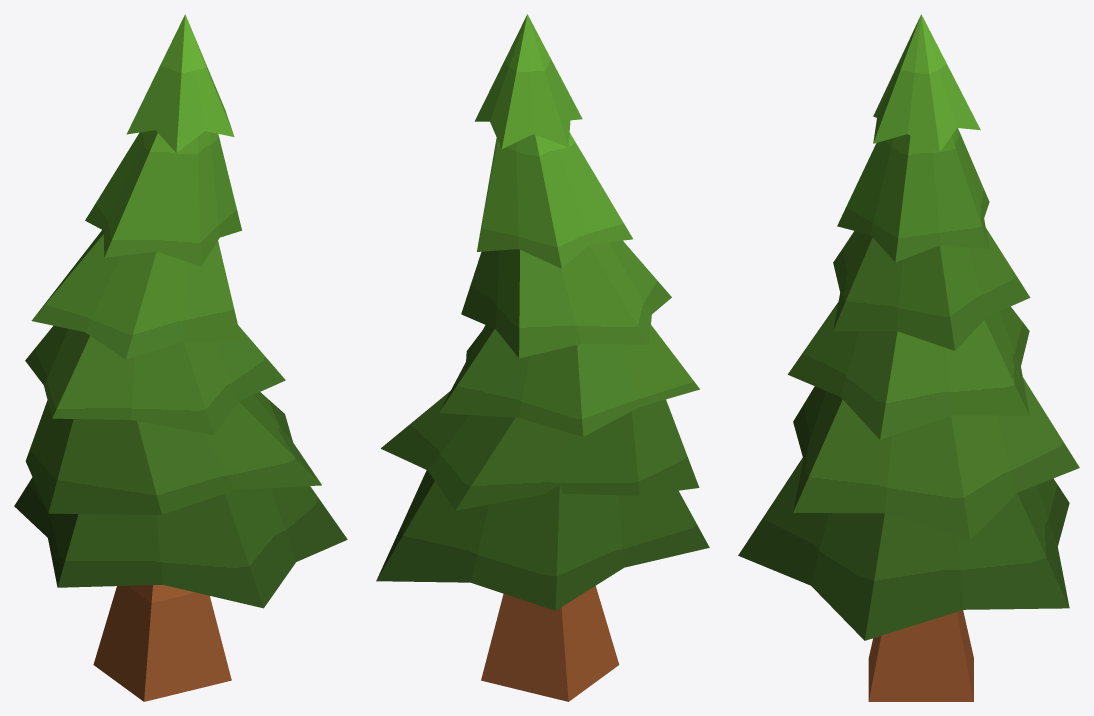
The model's file is tree-2.fbx.
3 views of the same model, side by side, from view 1: azimuth 30°, elevation 25°; view 2: azimuth 150°, elevation 25°; view 3: azimuth 270°, elevation 25° (orthographic). The views are drawn at different scales.
Parts seen in each view (by area): view 1: Cube.004; view 2: Cube.004; view 3: Cube.004.
Part boxes in pixels (x1,y1,x2,y2): Cube.004: (14, 14, 347, 701); Cube.004: (376, 14, 709, 701); Cube.004: (738, 14, 1079, 701).
Bounding box in the file's own units: 241 × 517 × 237.
